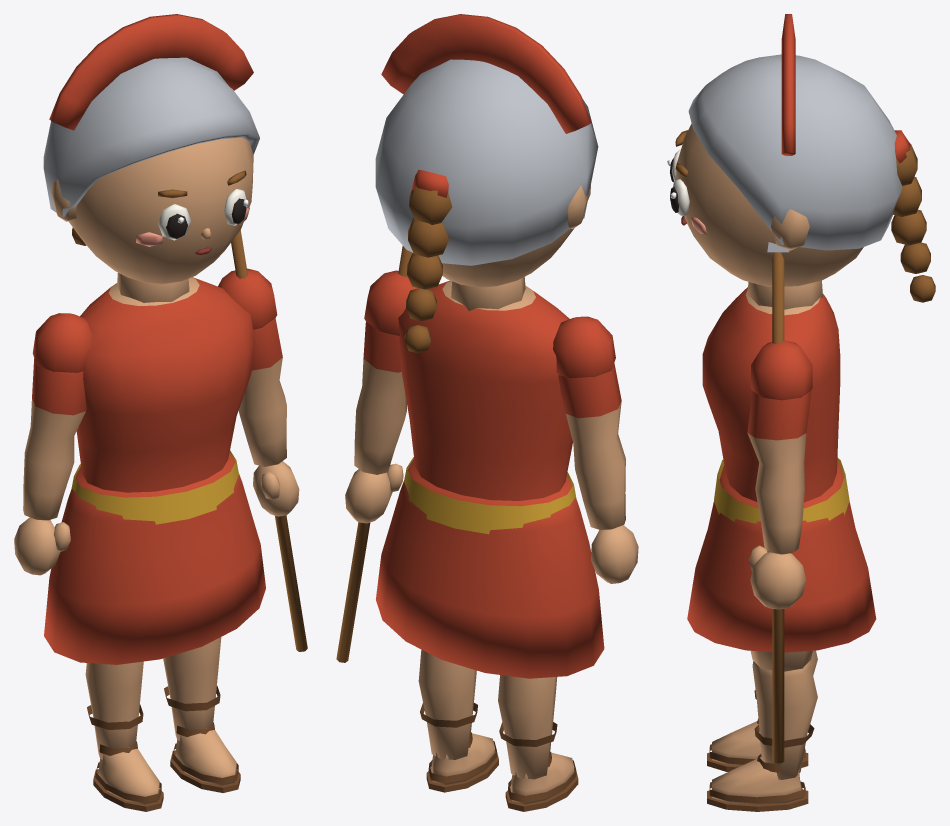
File: legionaerin.glb
3 renders of one model, left to right at view 1: azimuth 30°, elevation 25°; view 2: azimuth 150°, elevation 25°; view 3: azimuth 270°, elevation 25°, orthographic. The views are drawn at different scales.
Parts seen in each view (by area): view 1: rumpf, huefte, kopfschmuck, kopf, armL, armR, knieL, knieR, itemR, augeL, augeR; view 2: kopfschmuck, rumpf, huefte, armL, armR, knieL, knieR, haare, kopf, itemR; view 3: kopfschmuck, huefte, rumpf, armR, kopf, knieR, haare, itemR, knieL, beinR, augeR.
Part boxes in pixels (x1,y1,x2,y2): rumpf: [71, 277, 255, 524]; huefte: [44, 452, 265, 664]; kopfschmuck: [43, 14, 259, 217]; kopf: [51, 137, 253, 302]; armL: [14, 313, 92, 575]; armR: [218, 268, 299, 516]; knieL: [85, 661, 163, 811]; knieR: [163, 637, 240, 792]; itemR: [231, 230, 307, 651]; augeL: [158, 204, 191, 240]; augeR: [224, 189, 248, 225]; kopfschmuck: [375, 14, 598, 265]; rumpf: [398, 280, 576, 534]; huefte: [376, 458, 604, 678]; armL: [553, 316, 638, 583]; armR: [345, 270, 418, 523]; knieL: [498, 675, 578, 811]; knieR: [418, 649, 498, 792]; haare: [404, 169, 452, 353]; kopf: [442, 185, 590, 311]; itemR: [336, 246, 413, 662]; kopfschmuck: [688, 14, 902, 250]; huefte: [687, 459, 876, 652]; rumpf: [702, 287, 849, 523]; armR: [747, 340, 812, 609]; kopf: [676, 124, 863, 309]; knieR: [707, 661, 817, 811]; haare: [891, 130, 935, 302]; itemR: [767, 242, 789, 763]; knieL: [707, 650, 817, 771]; beinR: [750, 650, 812, 671]; augeR: [670, 179, 689, 216].
Size of the model in its own units: 0.9714 by 2.43 by 0.7797.
